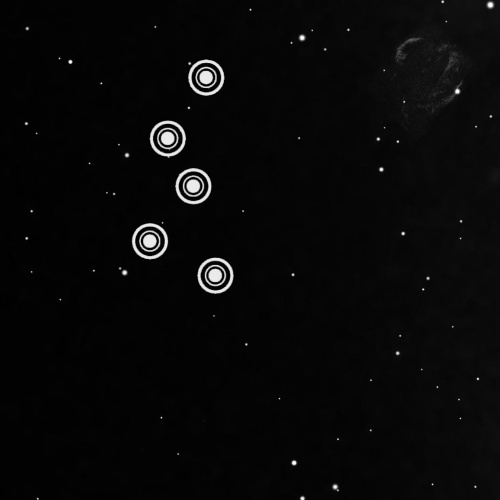cassiopeia: (120, 44, 243, 304)
